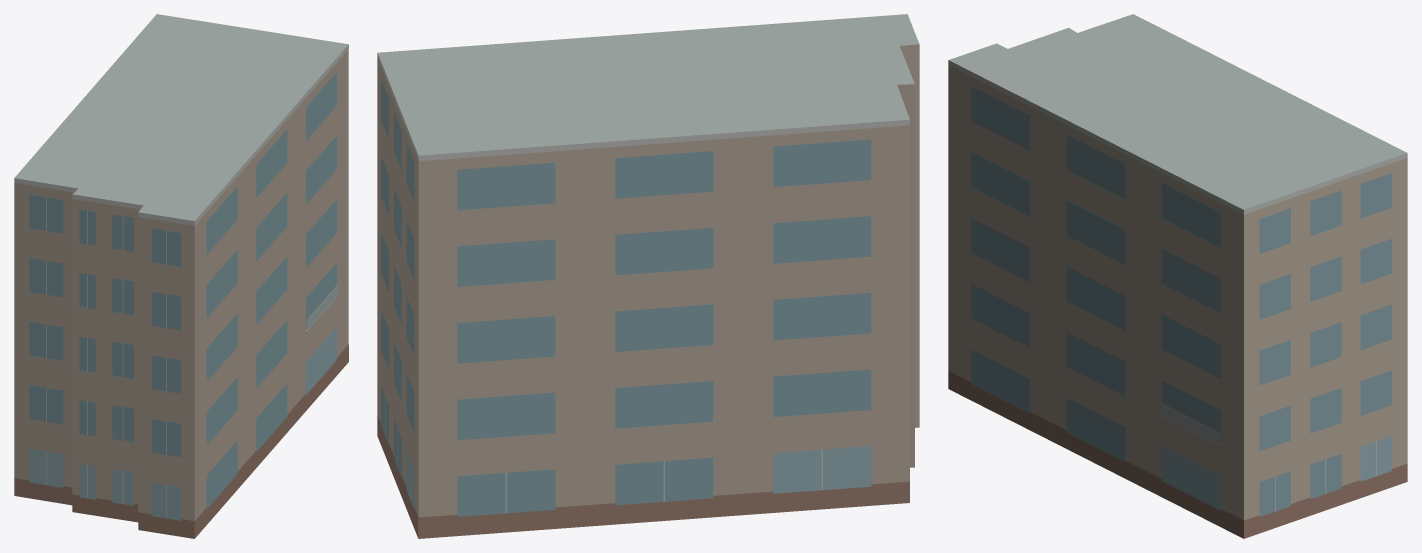
Rendered from survey-upis-32691783.glb.
The picture shows the model from 3 angles, left to right: view 1: azimuth 30°, elevation 25°; view 2: azimuth 150°, elevation 25°; view 3: azimuth 270°, elevation 25°; orthographic projection. The views are drawn at different scales.
Parts seen in each view (by area): view 1: survey-upis-32691783.tmp; view 2: survey-upis-32691783.tmp; view 3: survey-upis-32691783.tmp.
Part boxes in pixels (bbox=[...]): survey-upis-32691783.tmp: bbox=[14, 14, 348, 538]; survey-upis-32691783.tmp: bbox=[377, 14, 919, 538]; survey-upis-32691783.tmp: bbox=[948, 14, 1407, 538].
Size of the model in its own units: 21.22 by 16.6 by 21.
